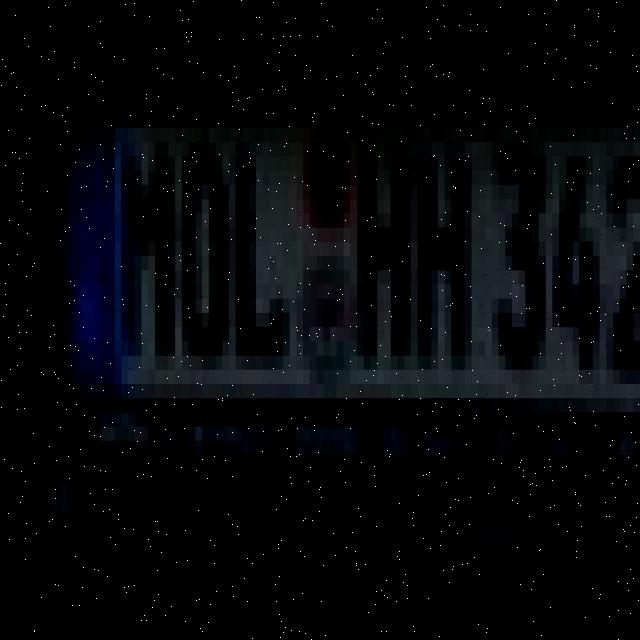licenseplate: (43, 78, 640, 470)
